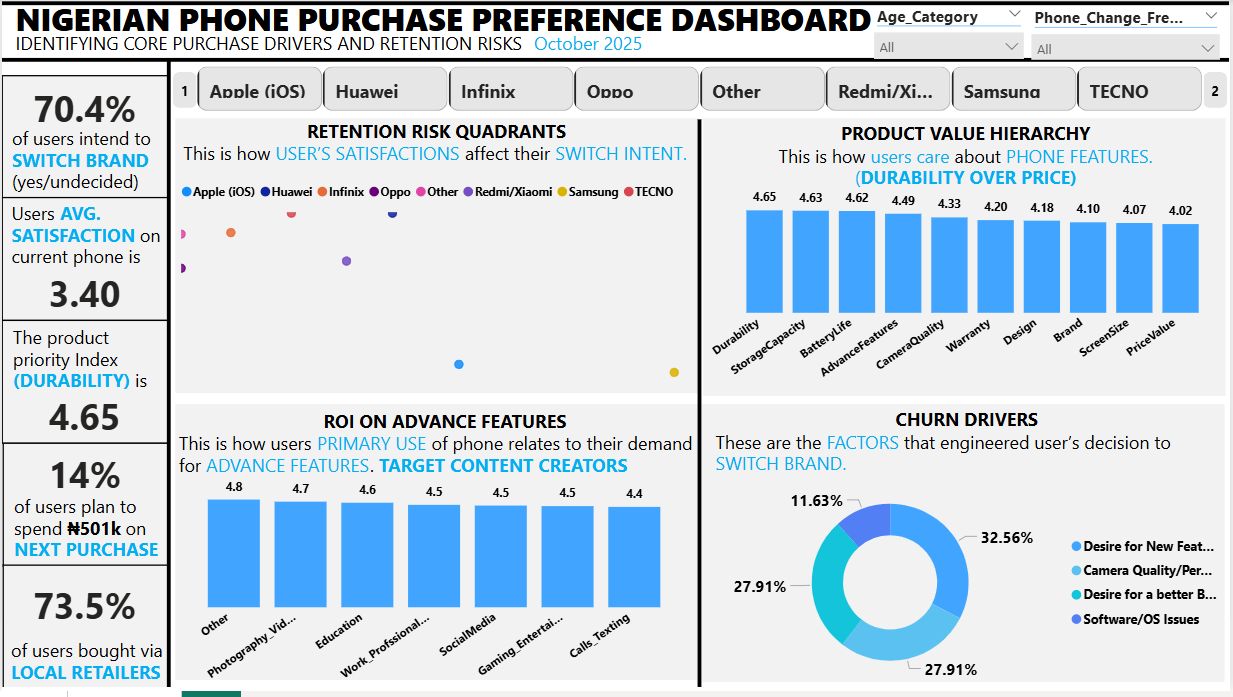

The dashboard page shown, as its layout file describes it:
{"tool":"powerbi","page":{"name":"Page 1","canvas":[1280,720],"ordinal":0},"visuals":[{"type":"advancedSlicerVisual","fields":{"Values":["Phone_Purchase_Preference.Current_Brand"]},"box":[178.6,64.8,1100.2,56.2],"z":0},{"type":"card","fields":{"Values":["KPI.Churn_Rate %"]},"box":[8.6,82.1,152.6,59],"z":0,"group":"g1"},{"type":"group","id":"g1","title":"Group 1","box":[8.6,82.1,152.6,576],"z":1000},{"type":"card","fields":{"Values":["KPI.Avg_Satisfaction"]},"box":[8.6,275.1,152.6,59],"z":1000,"group":"g1"},{"type":"columnChart","fields":{"Category":["Importance_Ratings.Factor"],"Y":["Chart Measures.Importance_Ratings"]},"box":[733,180,538.6,231.8],"z":2000},{"type":"card","fields":{"Values":["KPI.Avg_Durability"]},"box":[8.6,403.2,152.6,59],"z":2000,"group":"g1"},{"type":"scatterChart","fields":{"X":["KPI.Avg_Satisfaction"],"Y":["KPI.Churn_Rate %"],"Category":["Phone_Purchase_Preference.Current_Brand"],"Series":["Phone_Purchase_Preference.Current_Brand"]},"box":[181.4,180,538.6,231.8],"z":3000},{"type":"card","fields":{"Values":["KPI.Premuim_Budget %"]},"box":[8.6,463.7,152.6,59],"z":3000,"group":"g1"},{"type":"columnChart","fields":{"Category":["Use_Case.Primary_Use"],"Y":["Chart Measures.Feature_Demand"]},"box":[181.4,481,538.6,239],"z":3001},{"type":"donutChart","fields":{"Y":["Chart Measures.Respondent_Count"],"Category":["Phone_Purchase_Preference.Reason_for_Switch"]},"box":[730.7,493.9,549.3,225.1],"z":3002},{"type":"slicer","fields":{"Values":["Phone_Purchase_Preference.Age_Category"]},"box":[898.6,0,175.7,63.4],"z":3003,"group":"g2"},{"type":"slicer","fields":{"Values":["Phone_Purchase_Preference.Phone_Change_Frequency"]},"box":[1062.8,1.4,216,60.5],"z":3004,"group":"g2"},{"type":"group","id":"g2","title":"Group 2","box":[898.6,0,380.2,63.4],"z":3005},{"type":"shape","box":[178.6,74.9,24.5,37.4],"z":3006},{"type":"shape","box":[1251.4,74.9,24.5,37.4],"z":3007},{"type":"card","fields":{"Values":["KPI.Local_Retailer_Share %"]},"box":[8.6,599.1,152.6,59],"z":4000,"group":"g1"}]}

Visuals, with their boxes in screenshot pixels (x1, y1, x2, y2), scaled from the page's 1280x720 canvas onto the 1233x697 screenshot:
advancedSlicerVisual - Phone_Purchase_Preference.Current_Brand: (172,63,1232,117)
card - KPI.Churn_Rate %: (8,79,155,137)
"Group 1" group: (8,79,155,637)
card - KPI.Avg_Satisfaction: (8,266,155,323)
columnChart - Importance_Ratings.Factor x Chart Measures.Importance_Ratings: (706,174,1225,399)
card - KPI.Avg_Durability: (8,390,155,447)
scatterChart - KPI.Avg_Satisfaction x KPI.Churn_Rate %: (175,174,694,399)
card - KPI.Premuim_Budget %: (8,449,155,506)
columnChart - Use_Case.Primary_Use x Chart Measures.Feature_Demand: (175,466,694,696)
donutChart - Chart Measures.Respondent_Count x Phone_Purchase_Preference.Reason_for_Switch: (704,478,1232,696)
slicer - Phone_Purchase_Preference.Age_Category: (866,0,1035,61)
slicer - Phone_Purchase_Preference.Phone_Change_Frequency: (1024,1,1232,60)
"Group 2" group: (866,0,1232,61)
shape: (172,73,196,109)
shape: (1205,73,1229,109)
card - KPI.Local_Retailer_Share %: (8,580,155,637)
